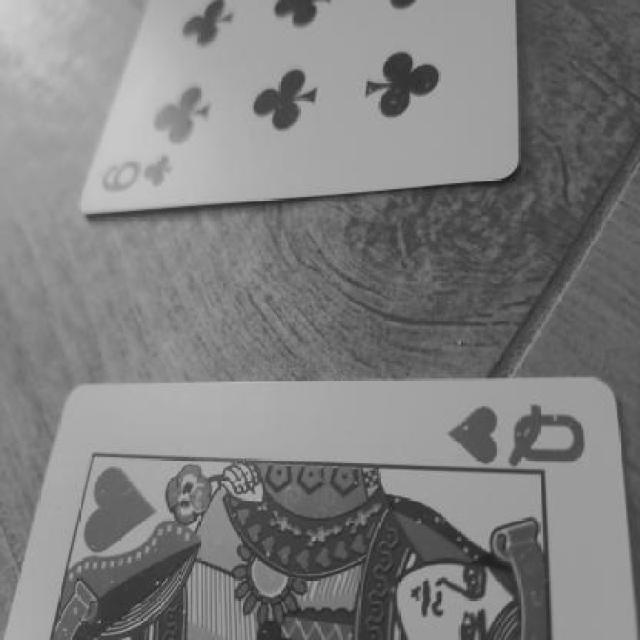6C: (92, 145, 179, 197)
QH: (438, 390, 610, 498)
